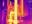Hotspot: (8, 11, 14, 23), (15, 0, 17, 24)
